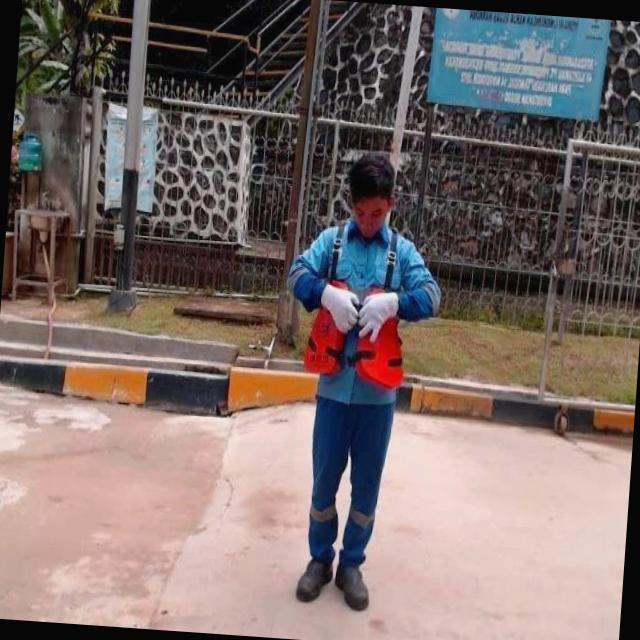vest: (292, 224, 414, 406)
